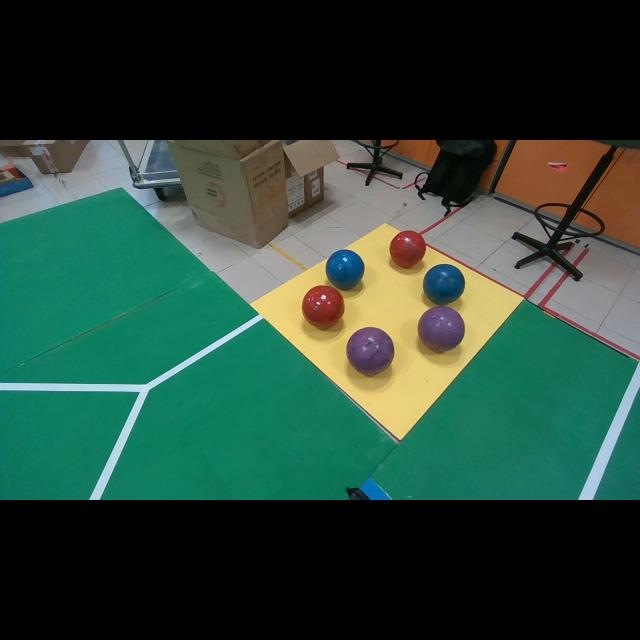B: (326, 249, 365, 290)
P: (346, 328, 395, 376), (418, 306, 465, 353)
